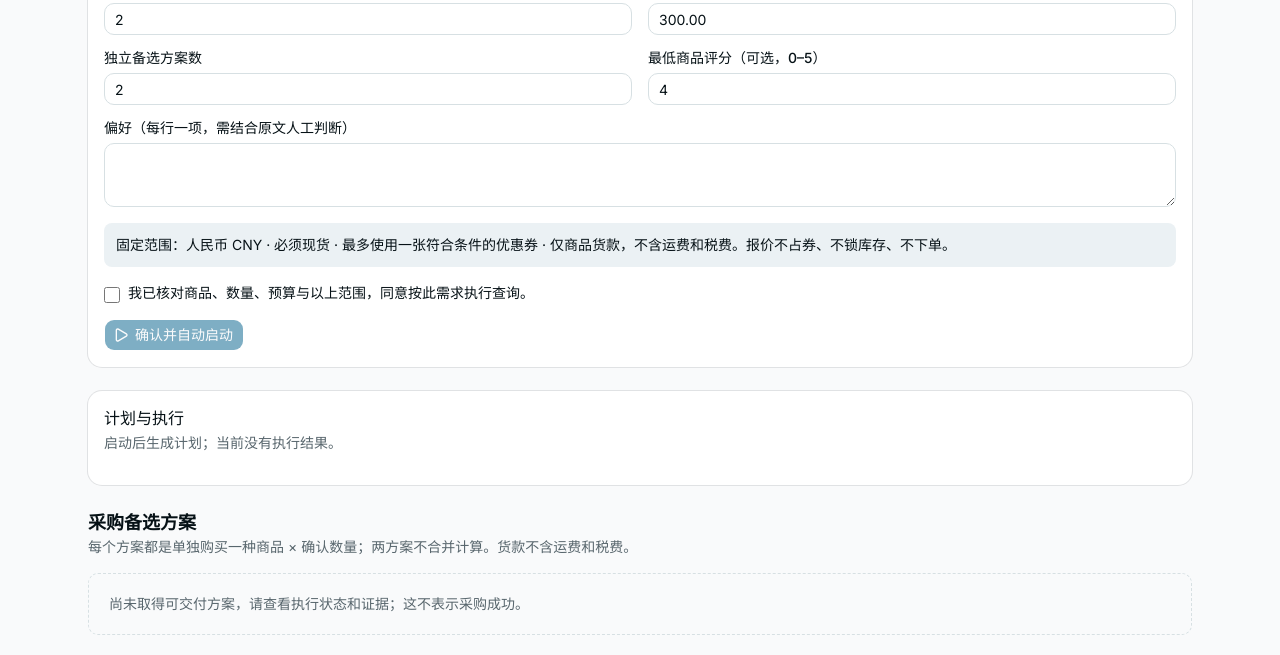
采购工作台合同测试（不替代真实后端验收） › 人工核对后按返回revision串行保存、确认、启动；不发送_parse
(page scrolled)
Expected: the button "确认并自动启动" is disabled, [104,319,244,351]
Click the checkbox.
click(112, 295)  # box [104,287,120,303]
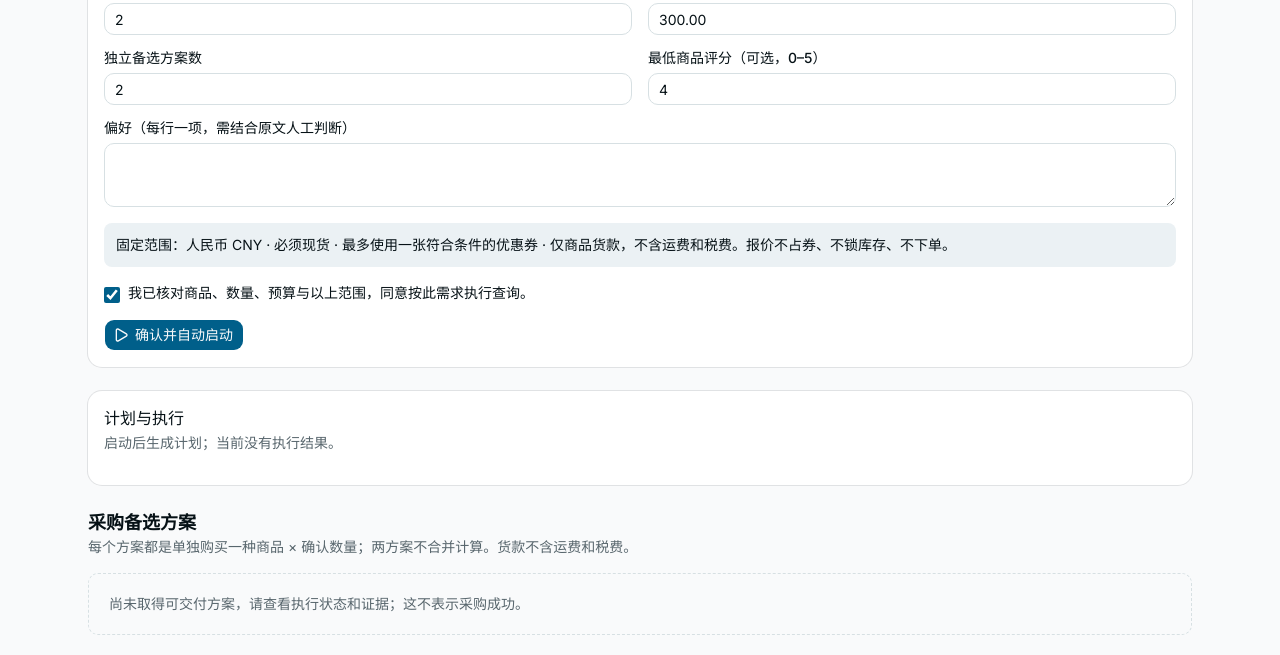
Click the button "确认并自动启动".
click(174, 335)  # box [104,319,244,351]
(page scrolled)
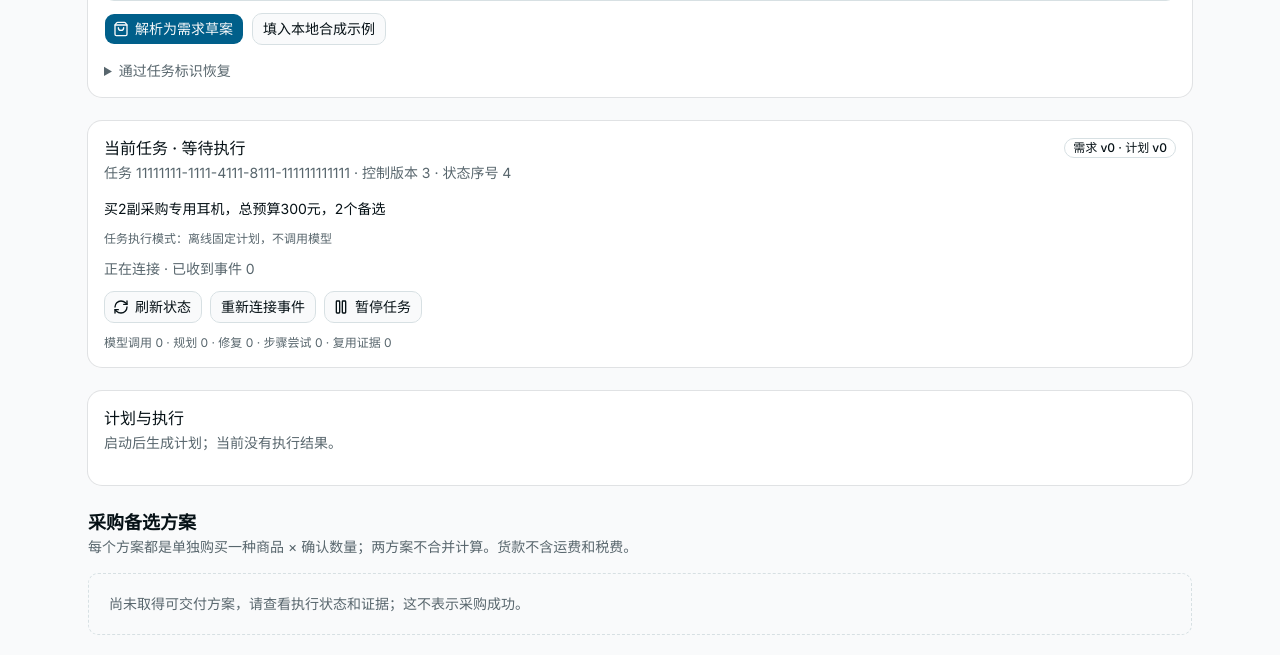
Now the text "当前任务 · 等待执行" is shown, box [104,137,245,159]
